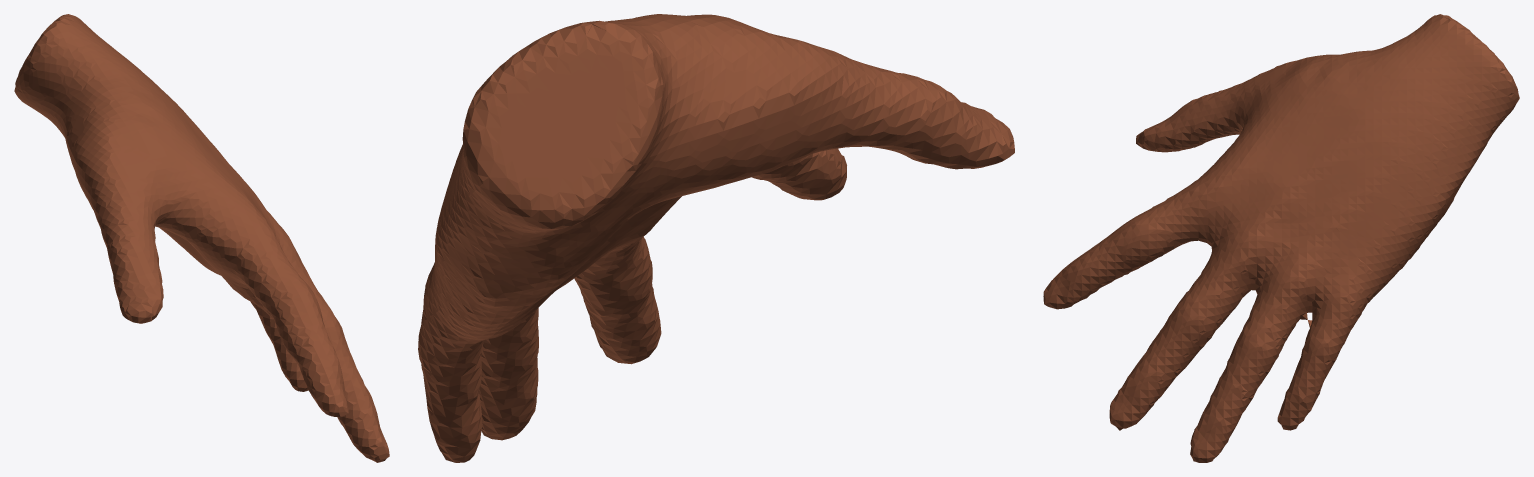
The model's file is hand-open.glb.
3 views of the same model, side by side, from view 1: azimuth 30°, elevation 25°; view 2: azimuth 150°, elevation 25°; view 3: azimuth 270°, elevation 25° (orthographic). The views are drawn at different scales.
Parts seen in each view (by area): view 1: hand-open; view 2: hand-open; view 3: hand-open.
Part boxes in pixels (x1=…): hand-open: x1=14, y1=14, x2=389, y2=462; hand-open: x1=418, y1=14, x2=1014, y2=462; hand-open: x1=1043, y1=14, x2=1519, y2=462.
Size of the model in its own units: 0.1103 by 0.1427 by 0.1714.
